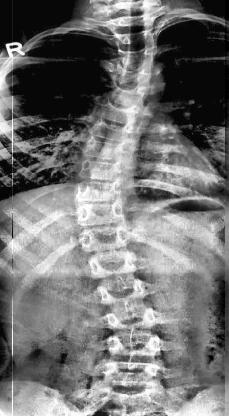Vertebrae: (105, 359, 171, 399), (100, 308, 166, 340), (84, 252, 142, 286), (76, 225, 132, 259), (105, 332, 167, 360), (80, 159, 133, 191), (70, 202, 130, 230), (73, 179, 131, 207), (93, 280, 153, 307), (82, 142, 138, 168), (106, 83, 158, 111), (87, 101, 146, 124), (114, 46, 166, 72), (88, 119, 138, 146), (111, 64, 161, 90), (113, 27, 157, 49)
